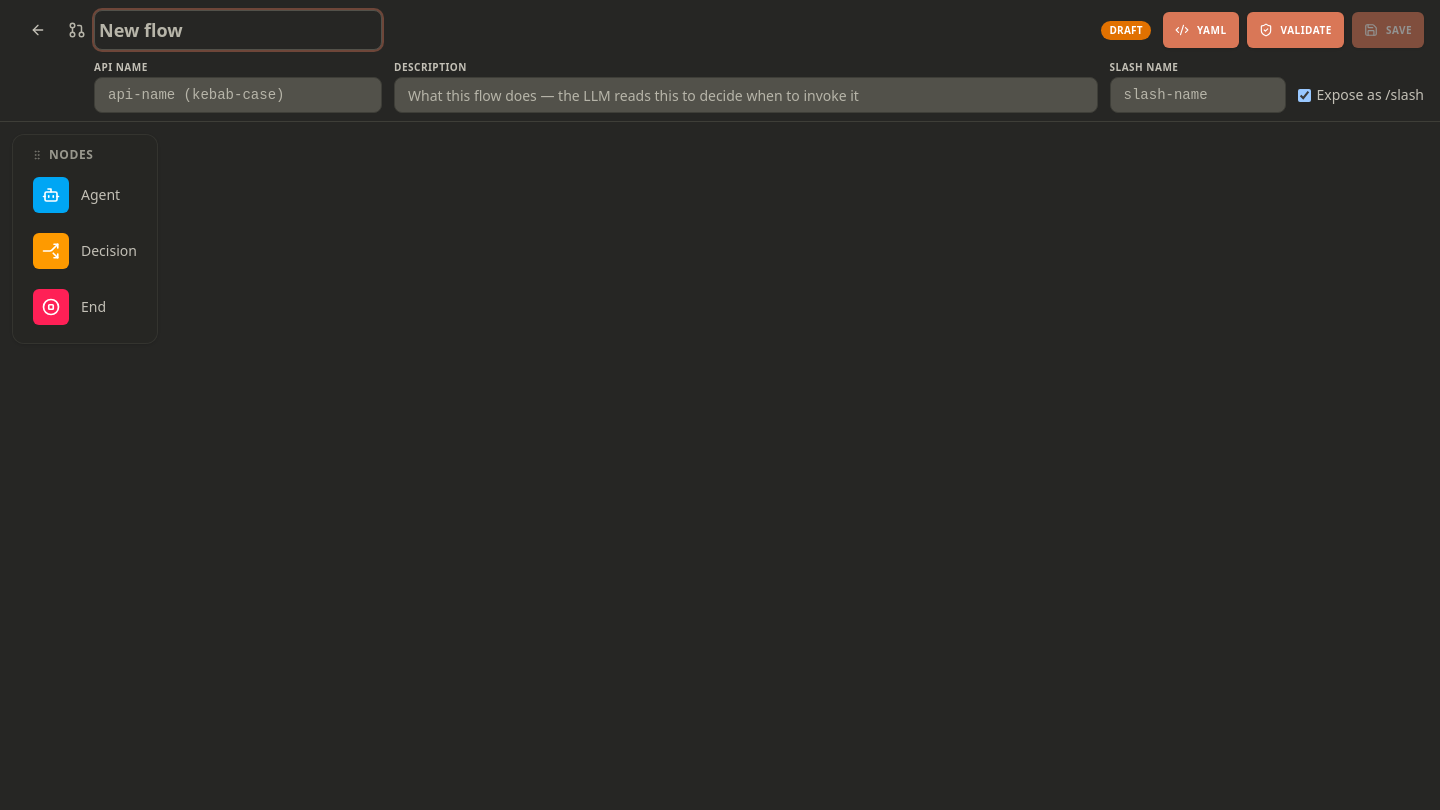
it: FlowEditorView (shell) › YAML button opens the read-only source dialog
The image size is (1440, 810).
Click the button with aria-label "view yaml source".
click(1201, 30)  # box [1163,12,1238,48]
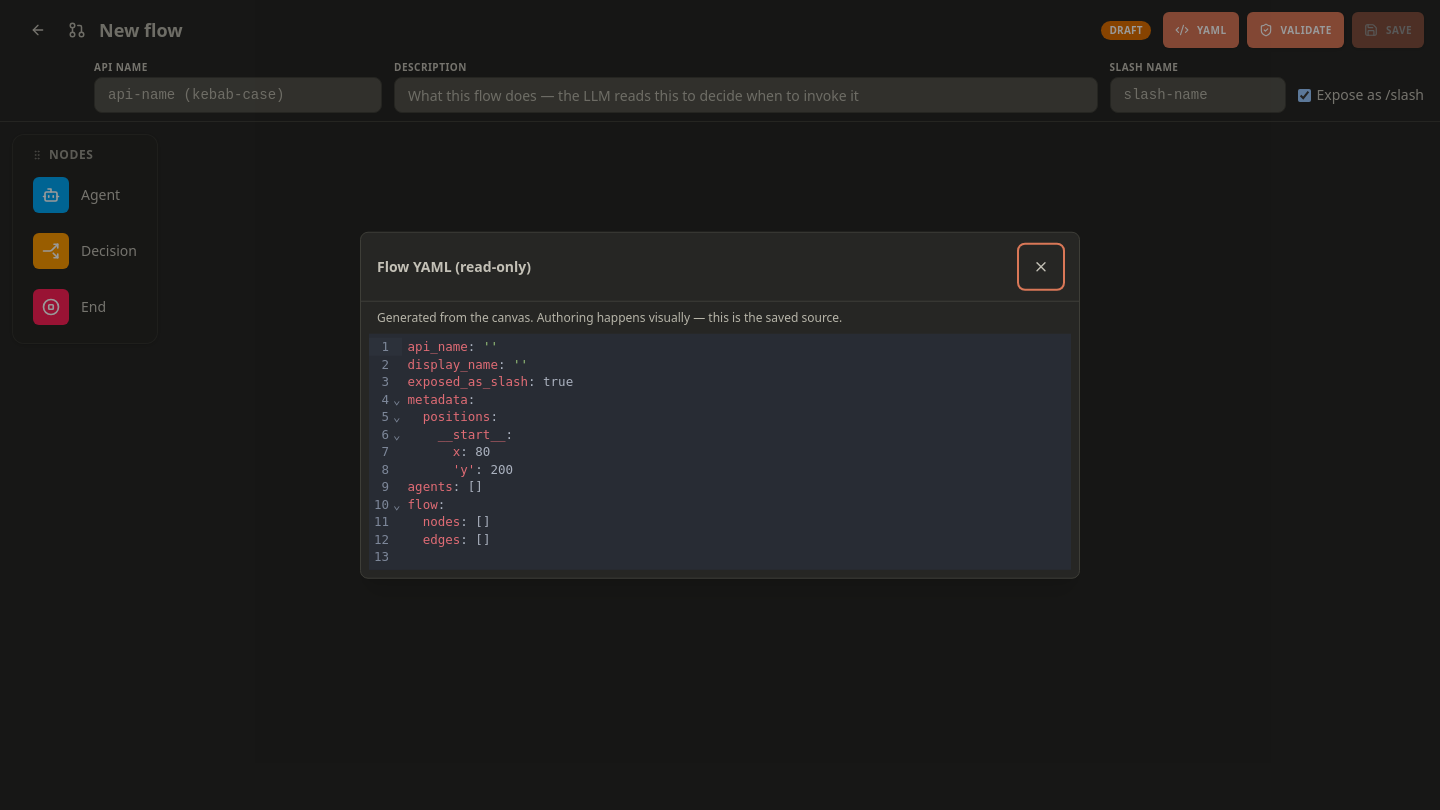
Check: the heading "Flow YAML (read-only)" is shown, box [377,257,531,277]
